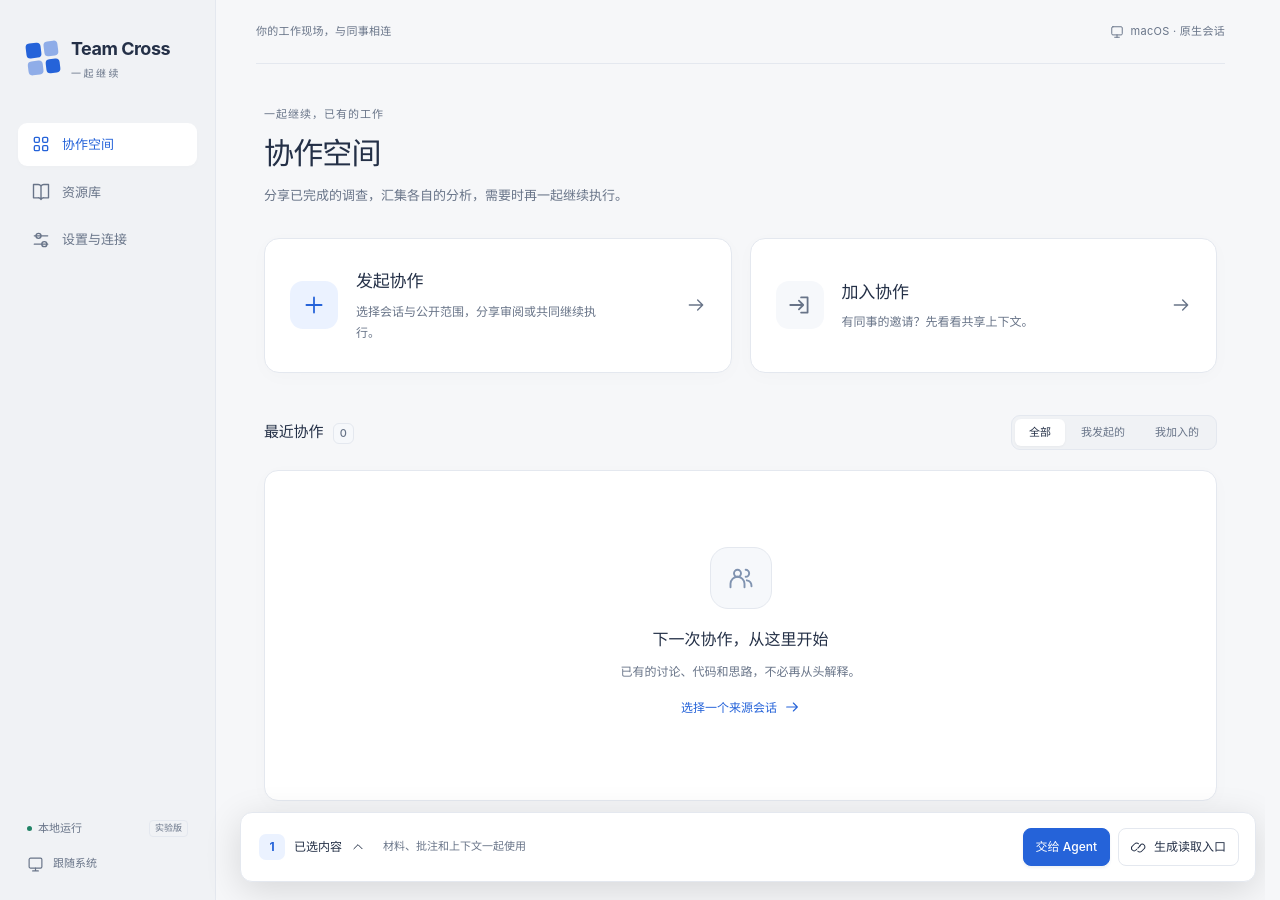
Test case: uses the existing selection entry and sends only its pinned references on an explicit click
Click the button "生成读取入口": (1178, 847) [1118,828,1239,866]
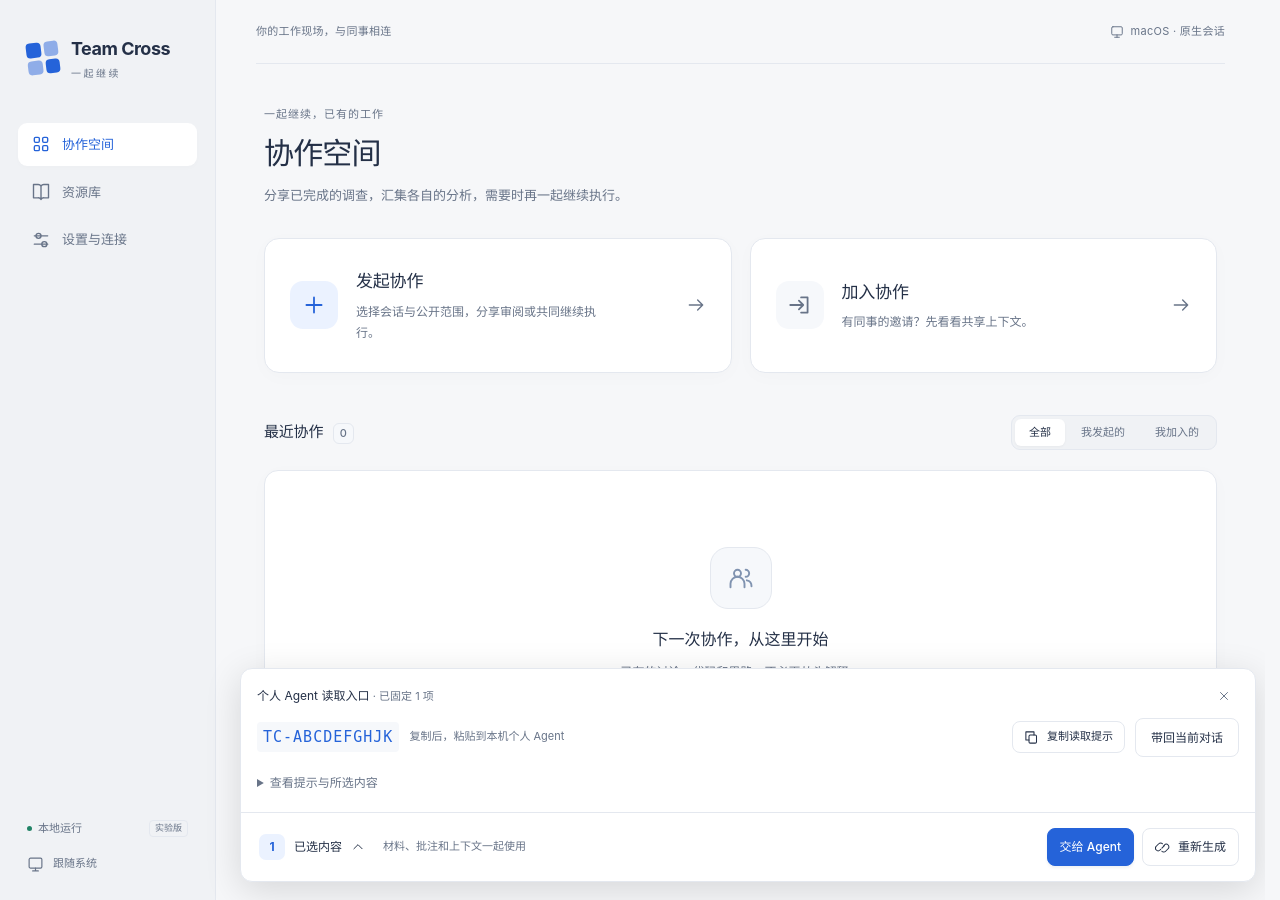
Now the text "TC-ABCDEFGHJK" is shown, box [257,722,399,752]
Click the button "带回当前对话": (1187, 737) [1135,718,1239,757]
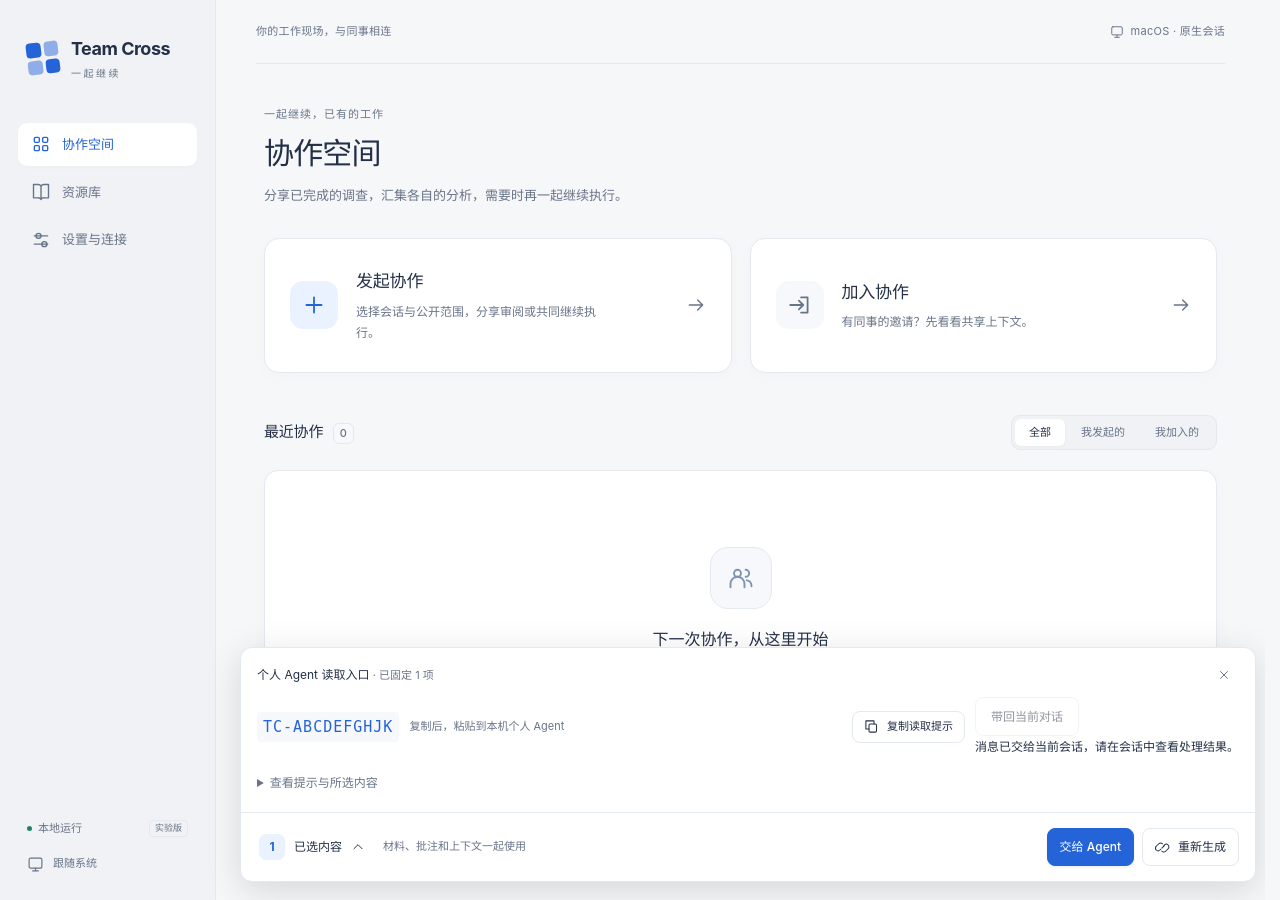
Now the text "消息已交给当前会话，请在会话中查看处理结果。" is shown, box [975,736,1239,757]
Now the button "带回当前对话" is disabled, box [975,697,1079,736]
